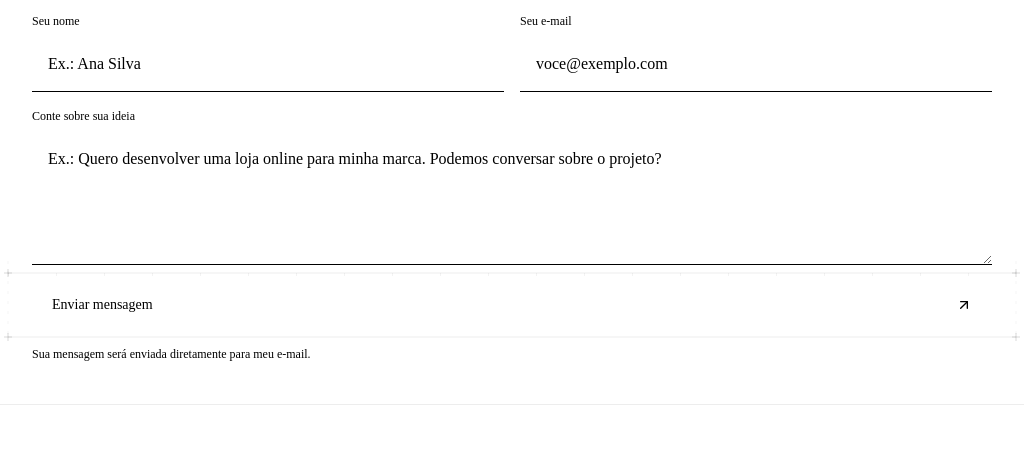
keeps the message after a network failure and allows a successful retry
Step 1. Type "Ana Silva" into the field labelled "Seu nome" → (268, 64), box [32,37,504,92]
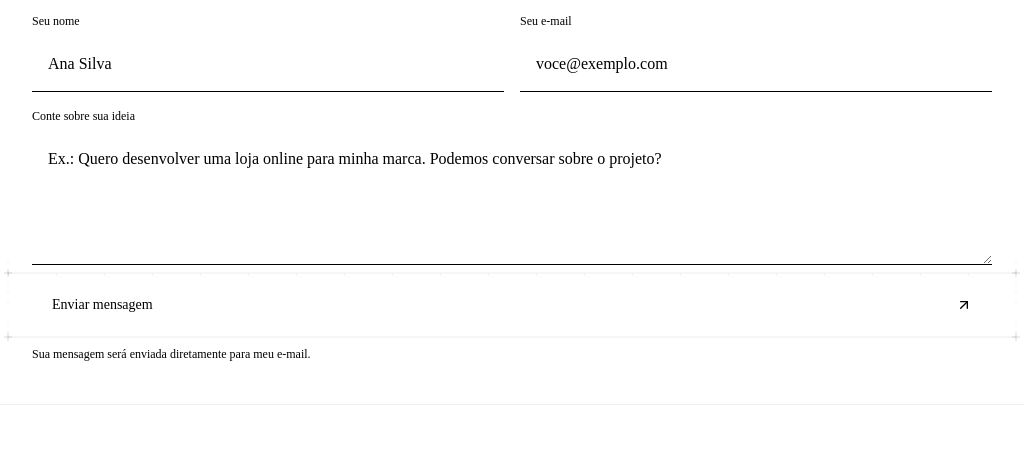
Step 2. Type "ana@example.com" into the field labelled "Seu e-mail" → (756, 64), box [520,37,992,92]
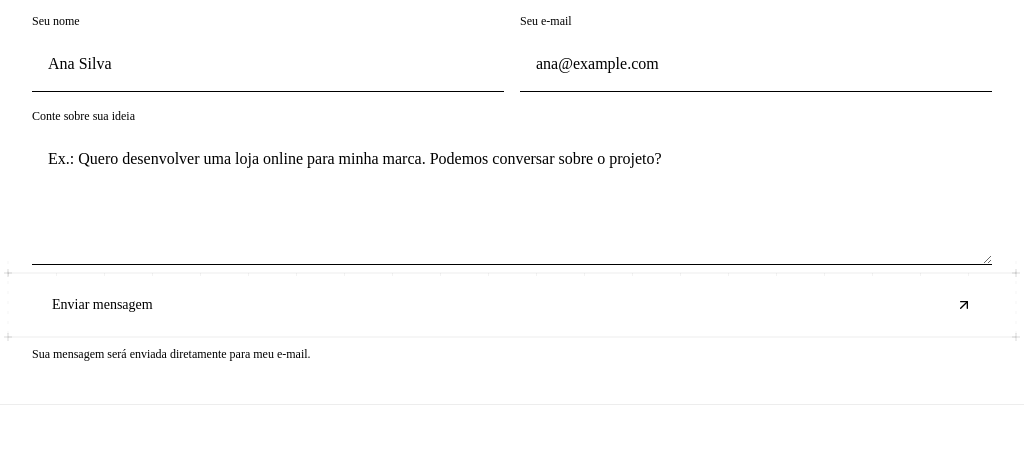
Step 3. Type "Quero conversar sobre um projeto." into the text box labelled "Conte sobre sua ideia" → (512, 198), box [32,132,992,265]
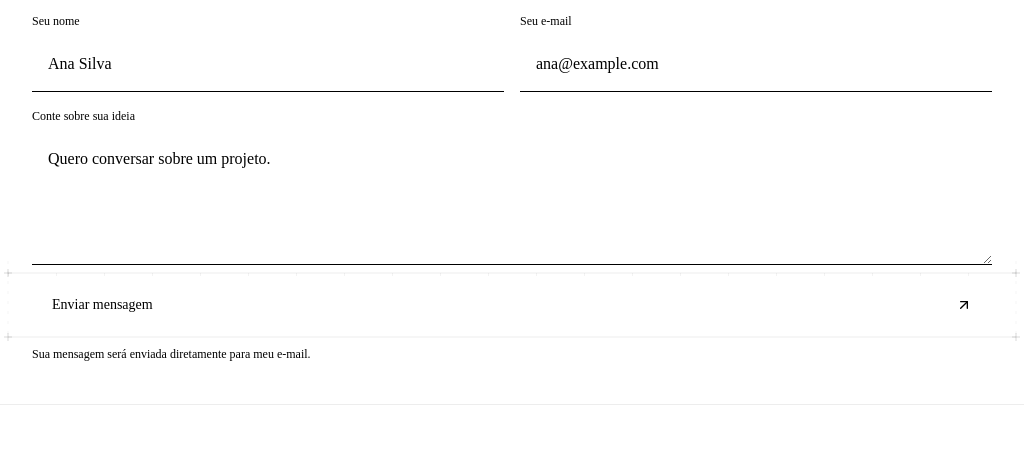
Step 4. Click the button "Enviar mensagem" → (102, 304), box [32,281,992,329]
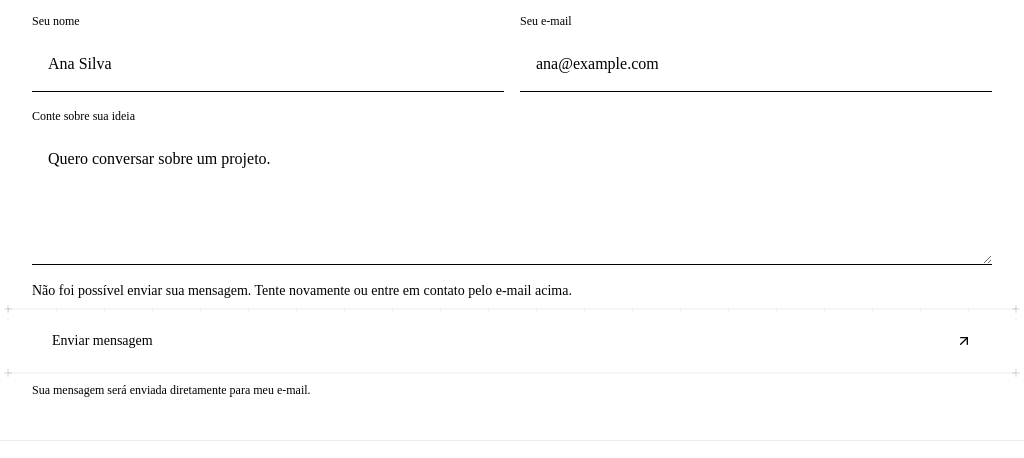
Expected: the message shows "Não foi possível enviar sua mensagem. Tente novamente ou entre em contato pelo e-mail acima.", [32,283,572,298]
Step 5. Click the button "Enviar mensagem" → (102, 340), box [32,317,992,365]
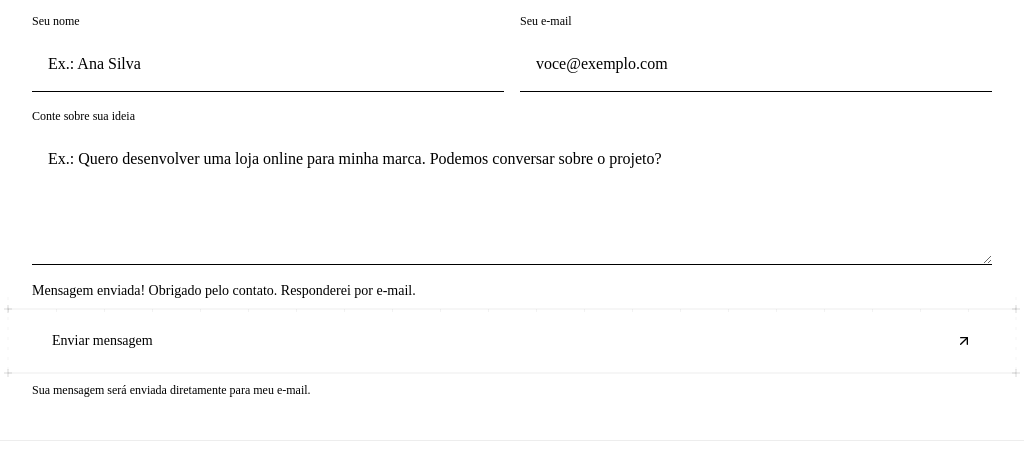
Expected: the message reads "Mensagem enviada! Obrigado pelo contato. Responderei por e-mail.", [32,283,416,298]
